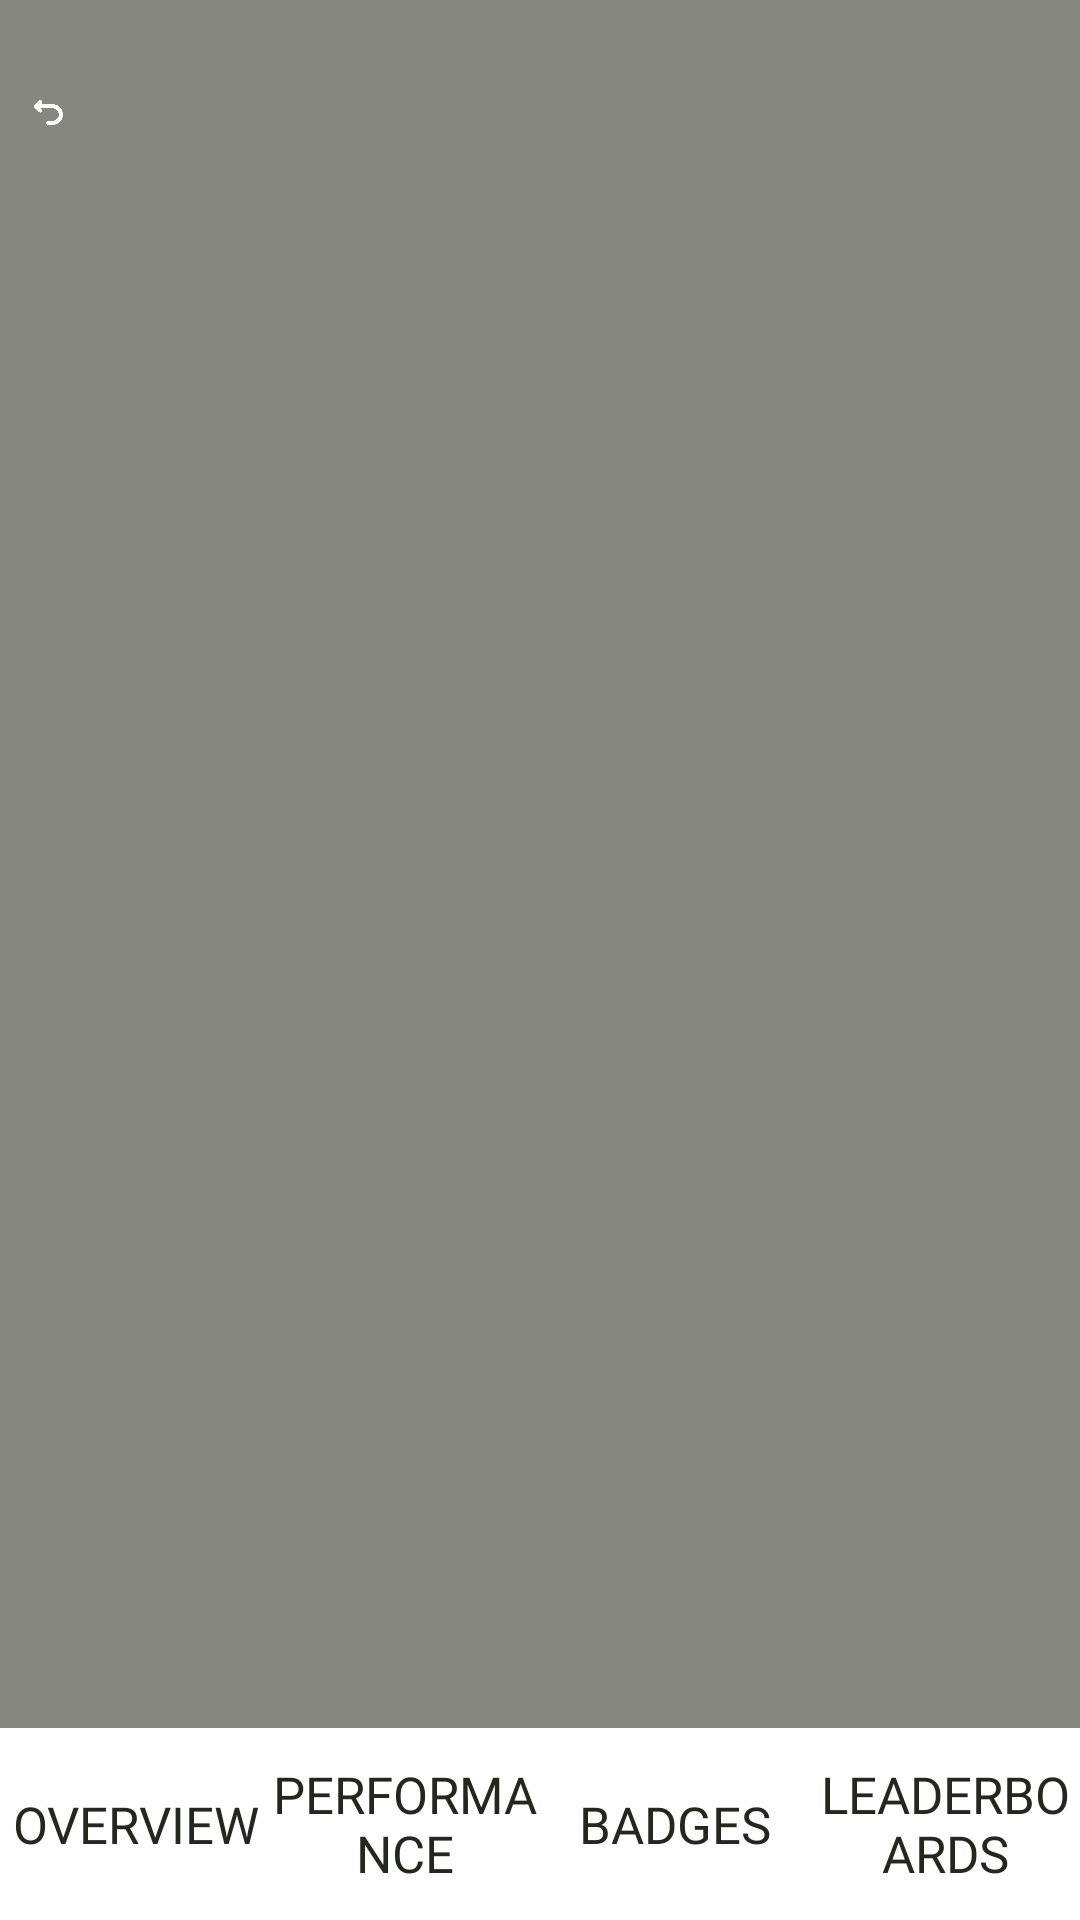

Where to tap for icons on this 1080px x 1920px app screen, as (x=x, y=y):
back: (x=48, y=112)
